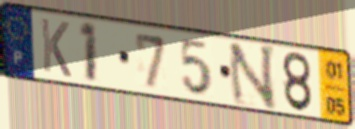1: (78, 20, 102, 86)
5: (180, 37, 216, 97)
7: (132, 31, 168, 90)
8: (280, 50, 314, 114)
K: (38, 15, 73, 80)
N: (226, 42, 278, 112)
